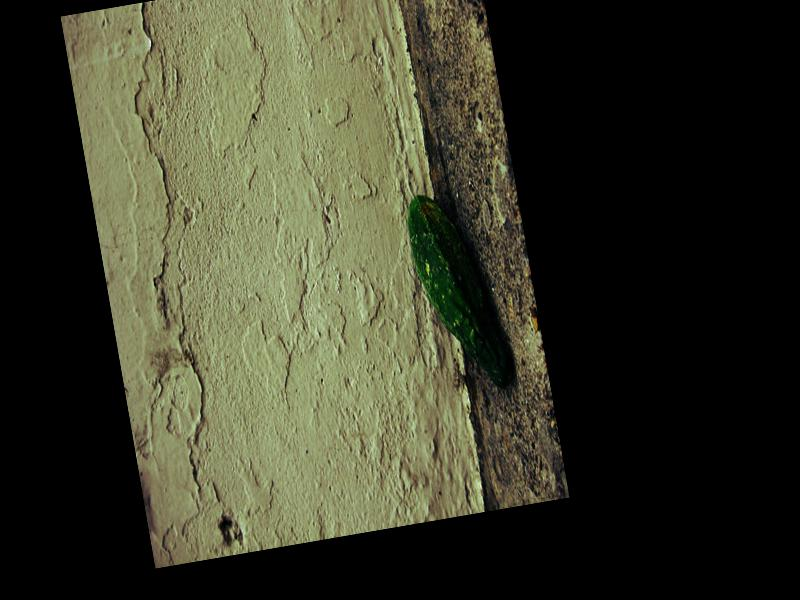Cucumber: (402, 185, 514, 397)
